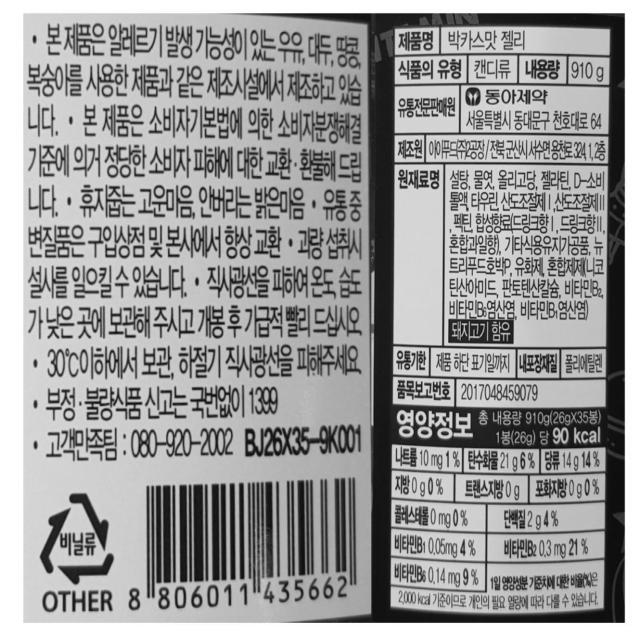Nutrition Label: (393, 401, 617, 618)
